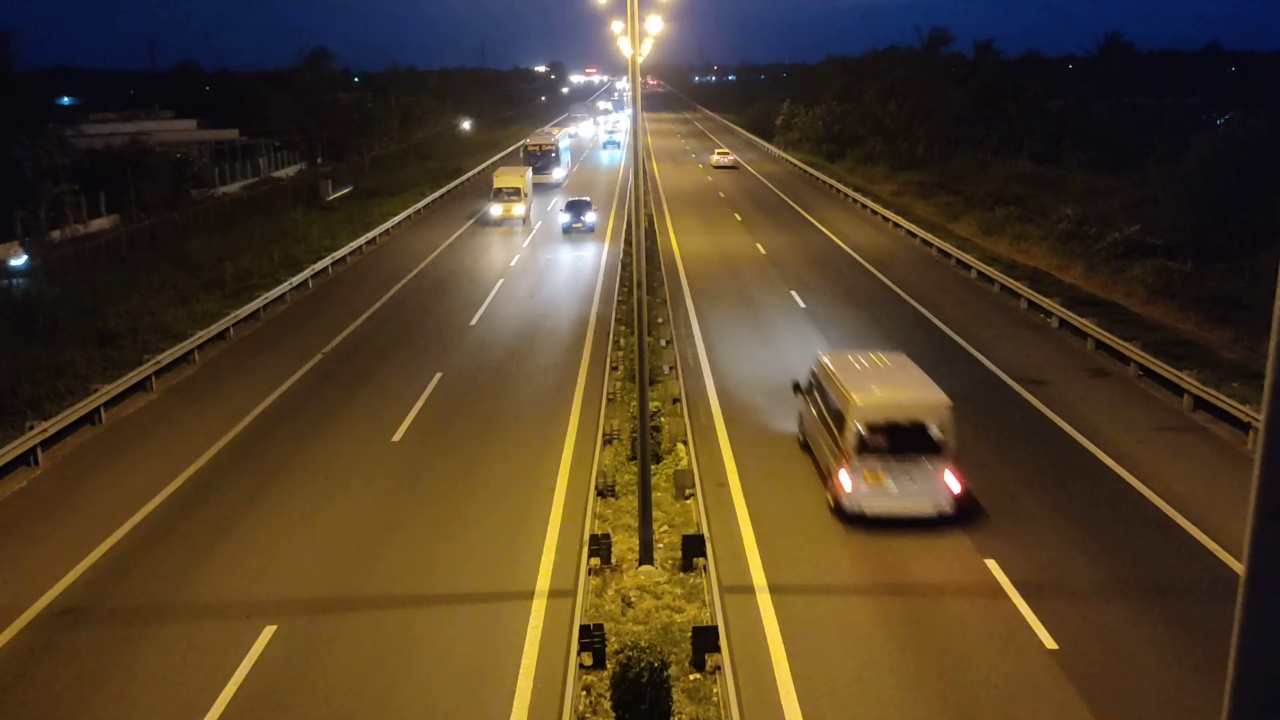car: (791, 347, 979, 525), (560, 197, 598, 235), (709, 148, 739, 169)
